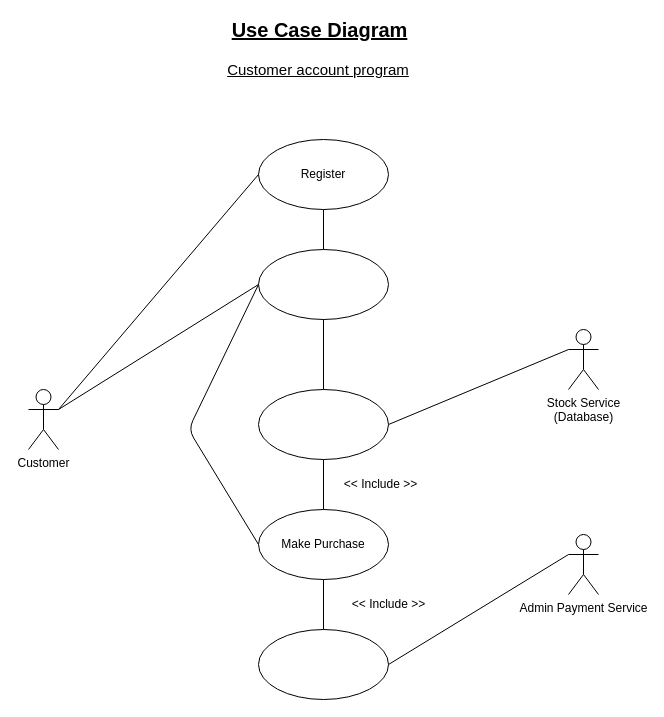
This 664x717 diagram has some shape labels left out. The centre of each missing label's shape, as x and y in pixels:
"Checkout" belongs at point (323, 664).
"Login" belongs at point (323, 284).
"View Items" belongs at point (323, 424).
